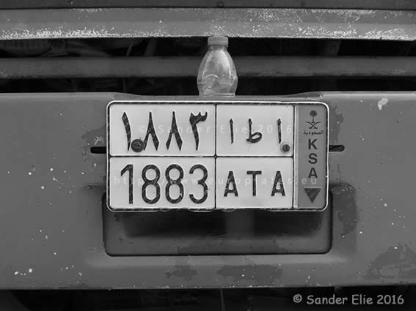license plate: (104, 99, 332, 214)
